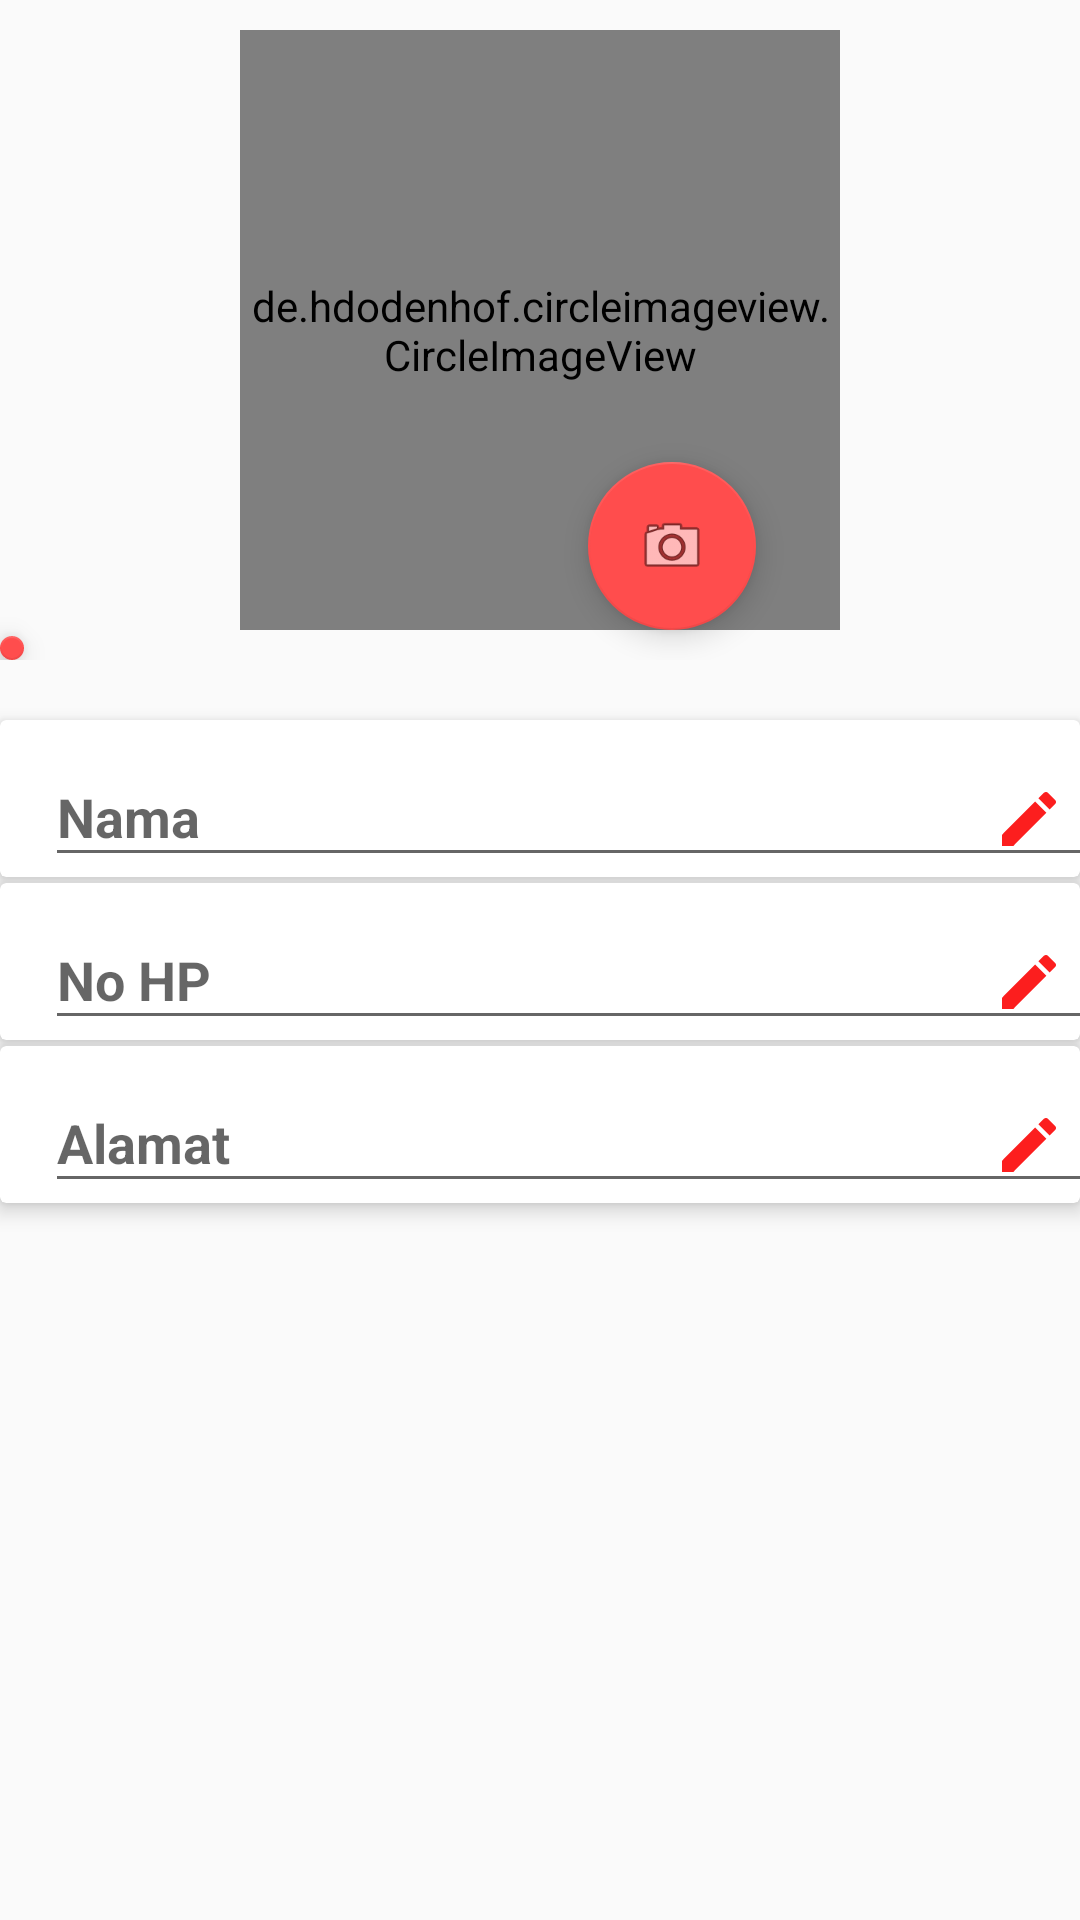

Where icons sit on this 1080*1920 app screen, as (x1, y1, x2, y2):
camera: (588, 462, 756, 630)
